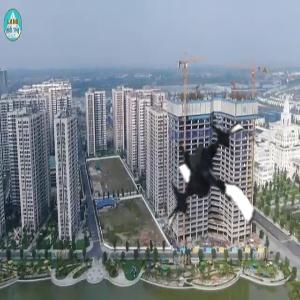drone: (147, 122, 282, 257)
